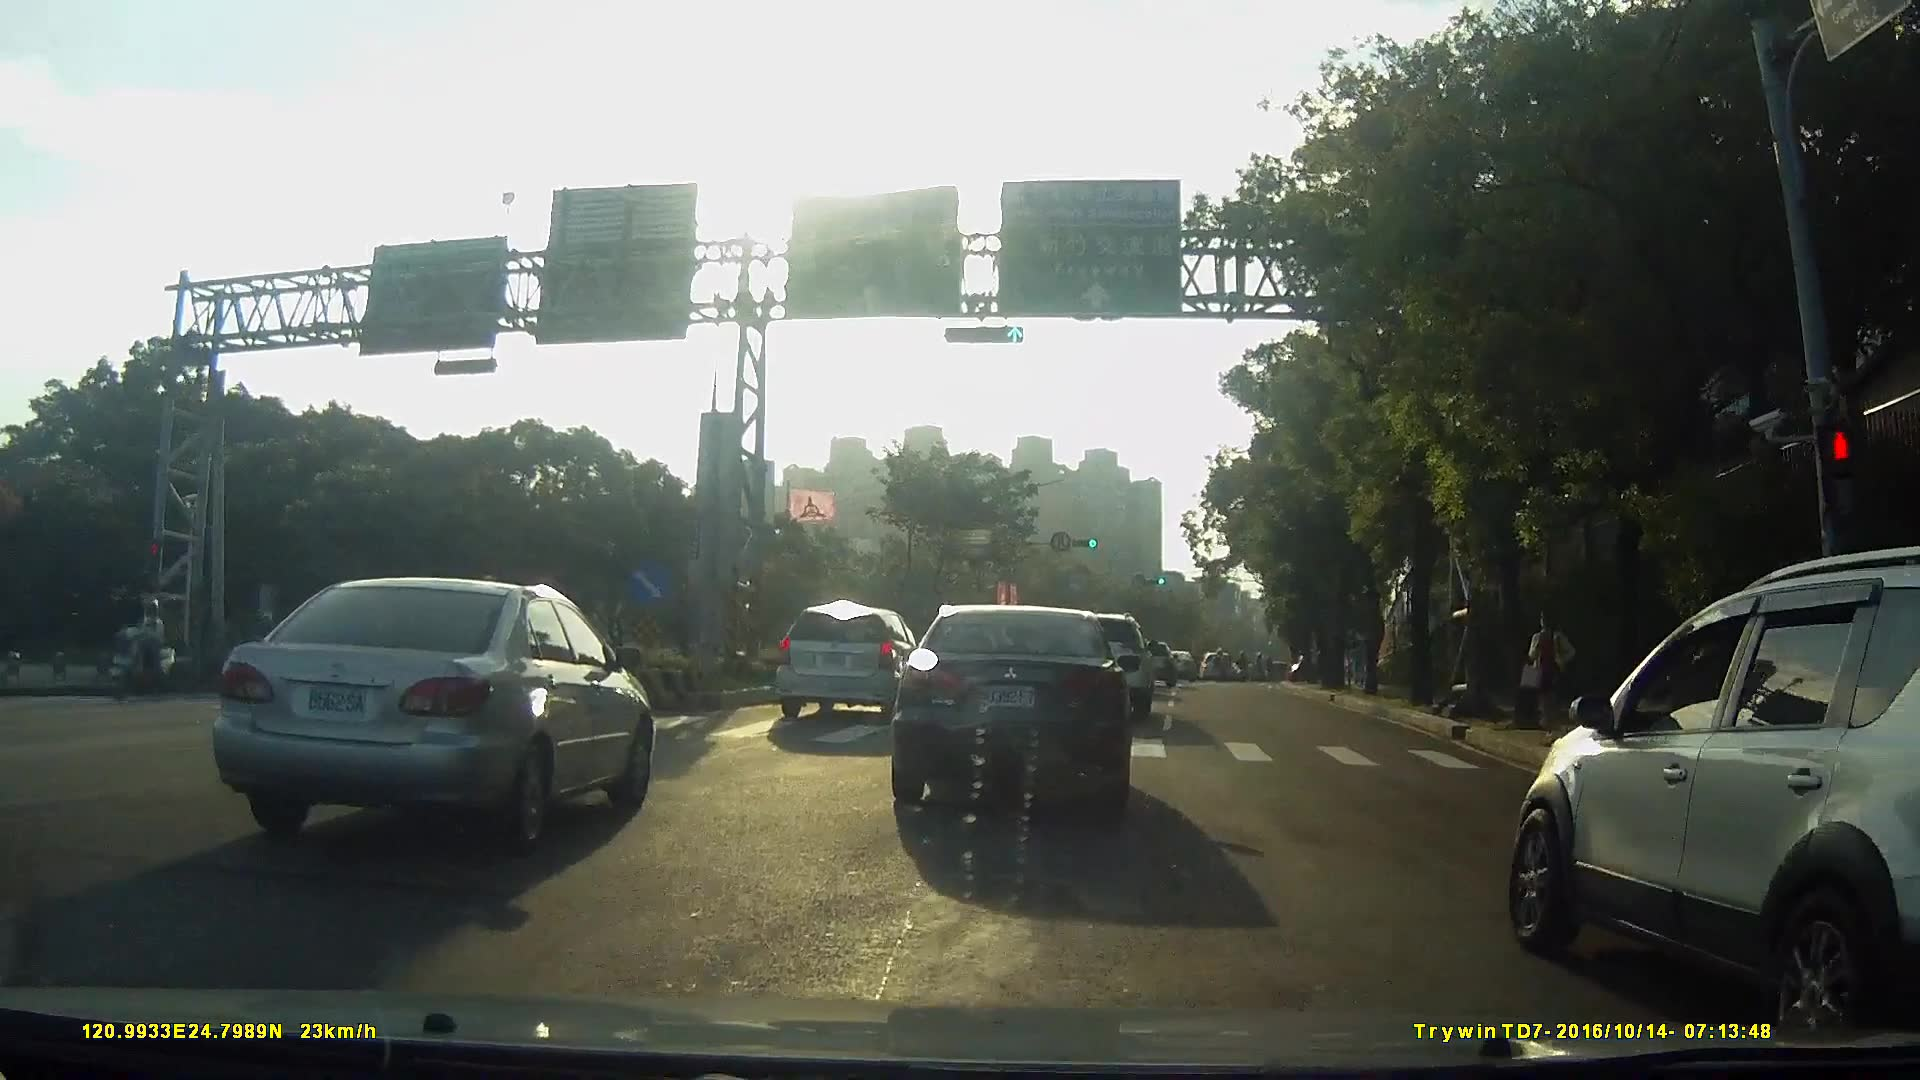pedestrian: (1519, 605, 1580, 750)
rider: (104, 597, 179, 701)
vehicle: (1468, 551, 1920, 1042), (196, 570, 673, 849), (874, 601, 1148, 814), (764, 598, 916, 719), (1188, 646, 1224, 678), (1155, 646, 1189, 678)
